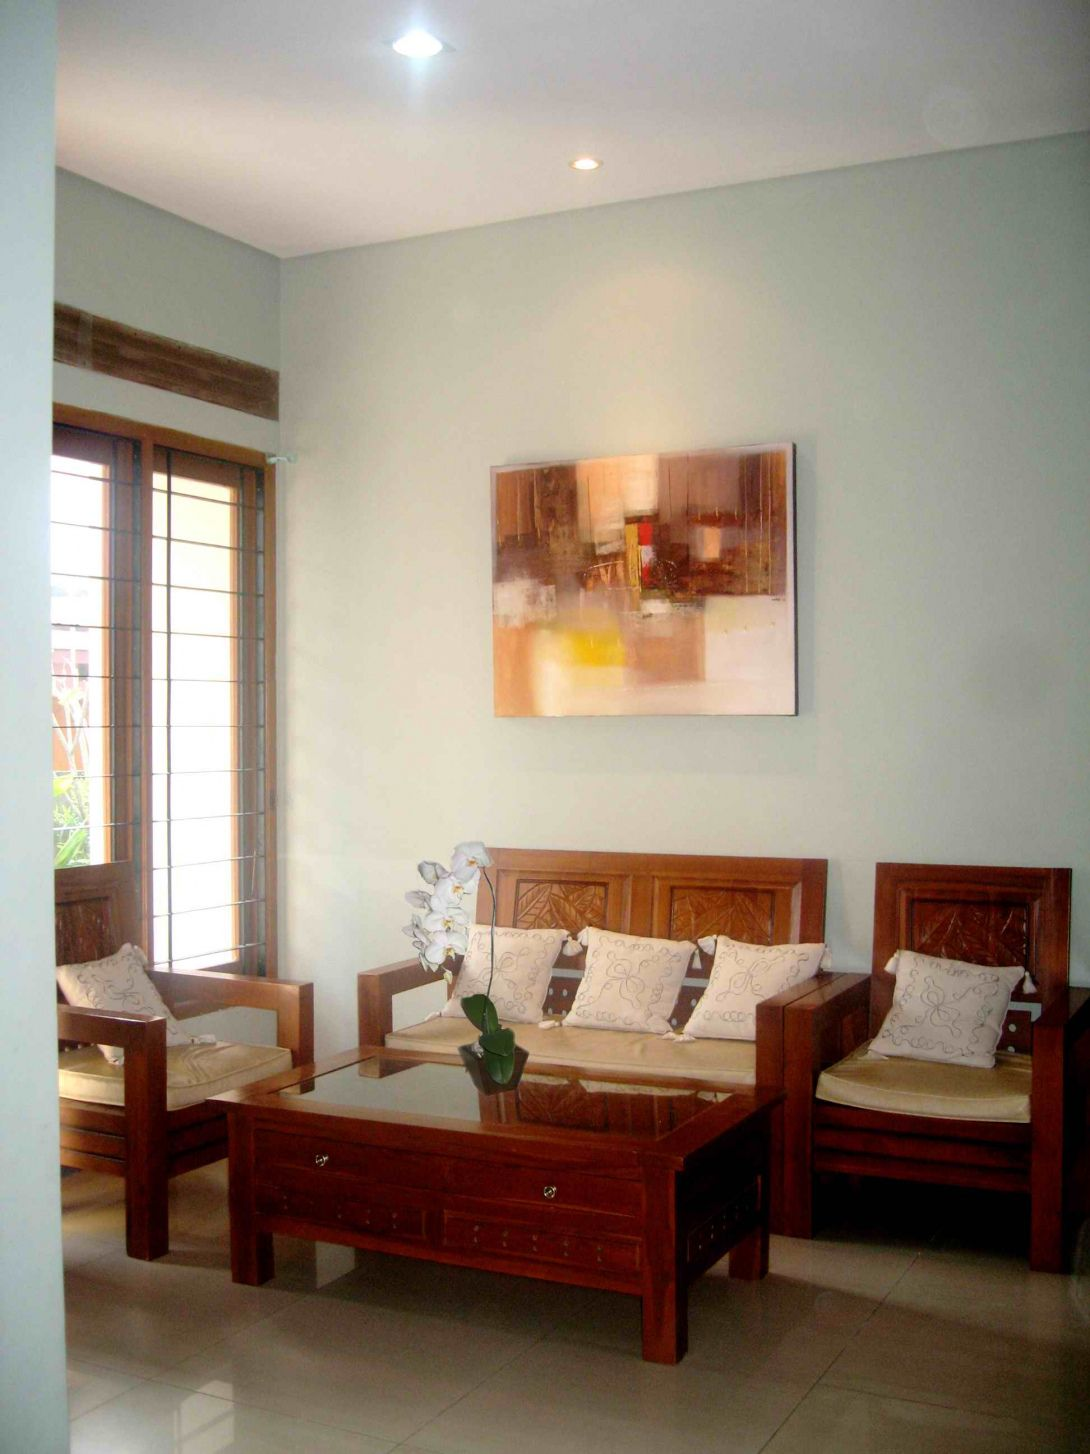bantal: (876, 947, 1008, 1069), (68, 947, 190, 1052), (701, 939, 816, 1040), (575, 928, 669, 1034)
kursi: (797, 853, 1090, 1263), (56, 850, 319, 1257), (352, 829, 824, 1053)
lukisan: (485, 444, 803, 724)
meja: (214, 1043, 797, 1365)
tanaman: (404, 861, 544, 1088)
